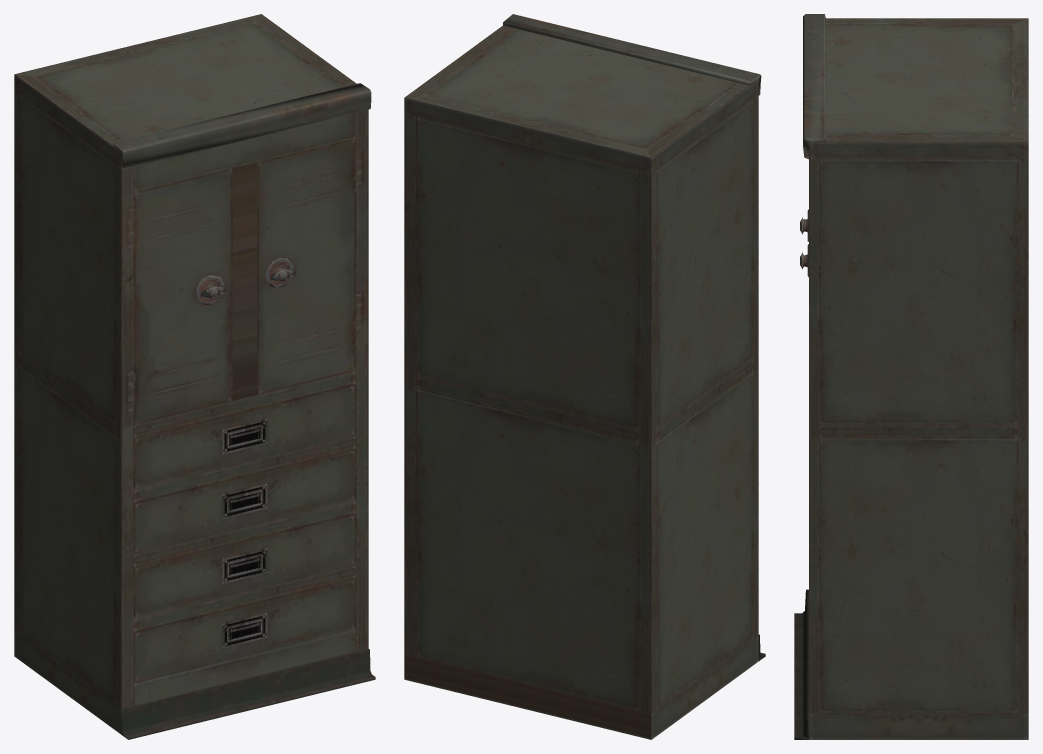
Rendered from crew_cabinet_100.glb.
3 renders of one model, left to right at view 1: azimuth 30°, elevation 25°; view 2: azimuth 150°, elevation 25°; view 3: azimuth 270°, elevation 25°, orthographic. The views are drawn at different scales.
Parts seen in each view (by area): view 1: crew_cabinet_100; view 2: crew_cabinet_100; view 3: crew_cabinet_100.
Boxes of the visible parts, x1,y1,x2,y2 form: crew_cabinet_100: (14,14,375,739); crew_cabinet_100: (404,14,765,739); crew_cabinet_100: (794,14,1028,739).
Bounding box in the file's own units: 1 × 2.27 × 0.7999.
Materials: 1 (1 with a texture image).
